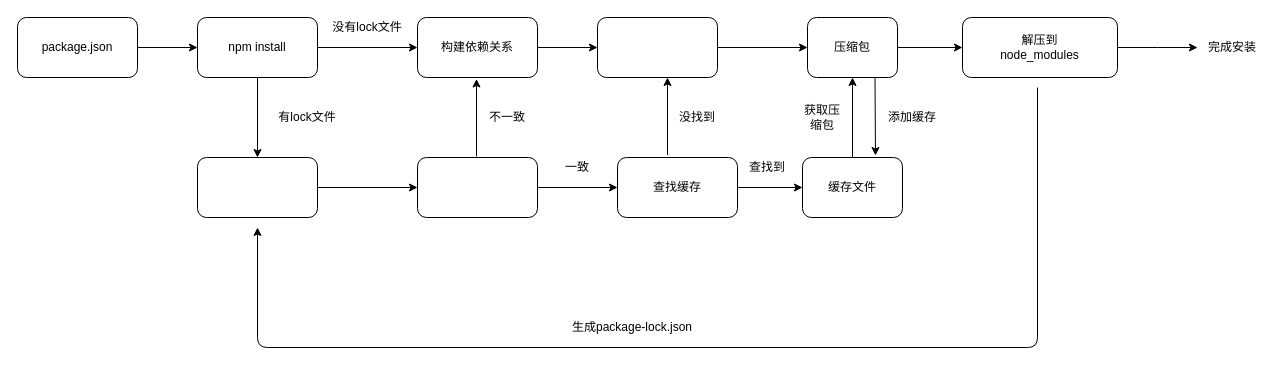
Some shapes in this 1285 by 373 pixel diagram are drawn without their labels. The shapes that lost their labels are listed below. From the top down, each one's centre as x and y in pixels, then its label:
At (657,47): "registry仓库".
At (257,187): "package-lock.json".
At (477,187): "检测依赖一致性".
